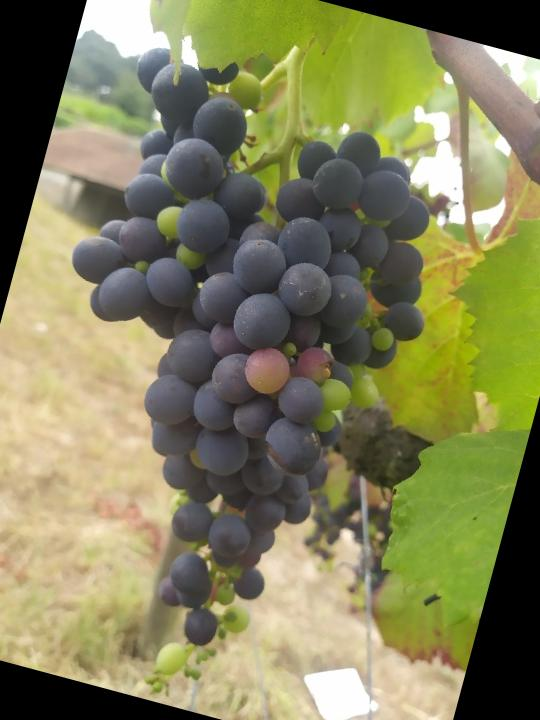grape: (0, 37, 476, 720)
